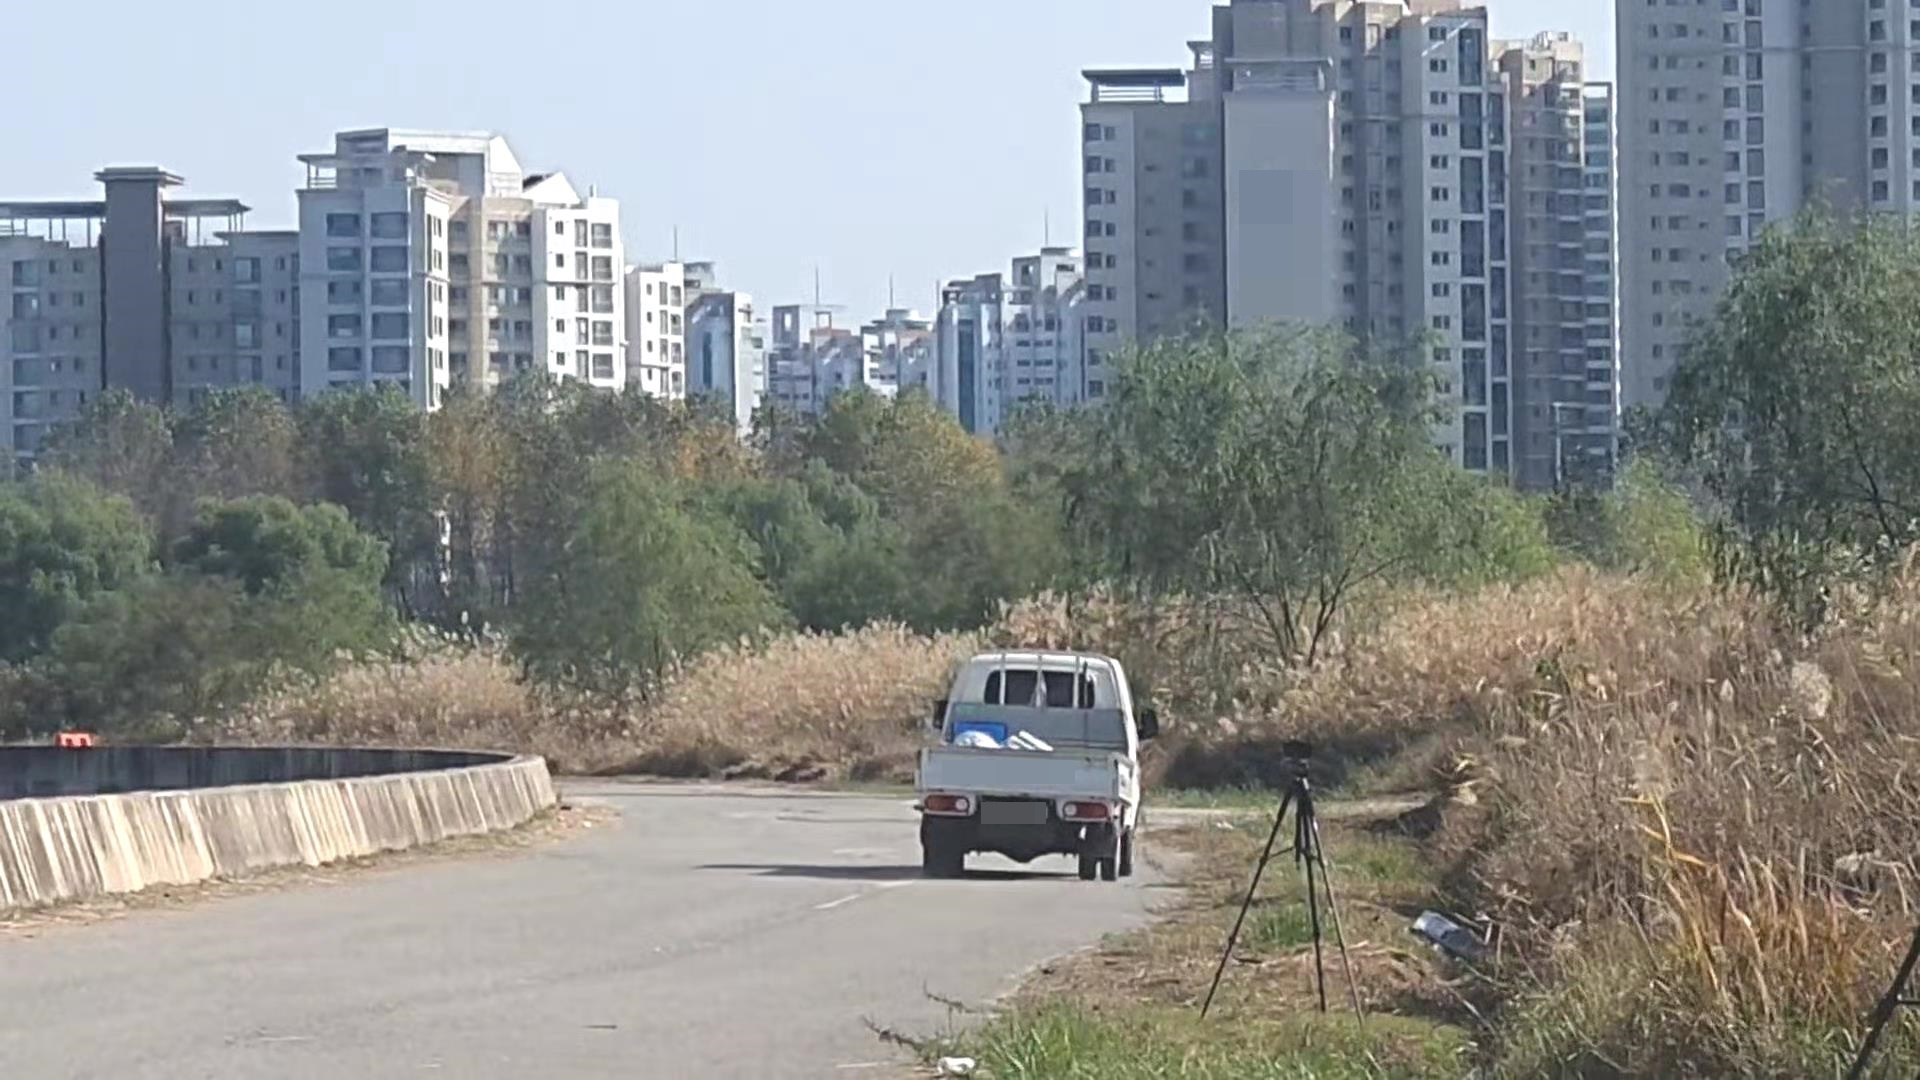불법차량: (914, 649, 1158, 881)
